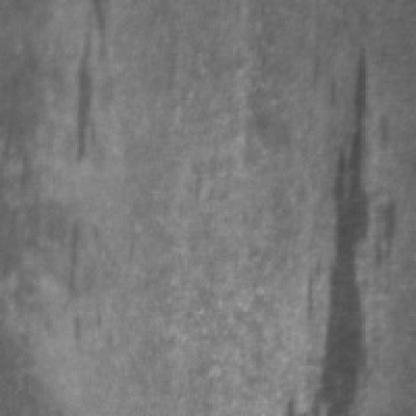inclusion: (304, 40, 395, 410), (60, 0, 116, 168), (54, 222, 98, 300)
